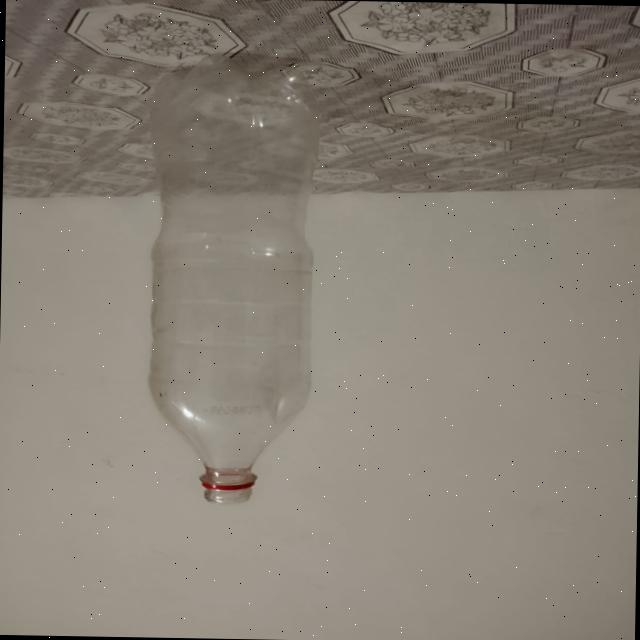bottle: (140, 47, 318, 500)
